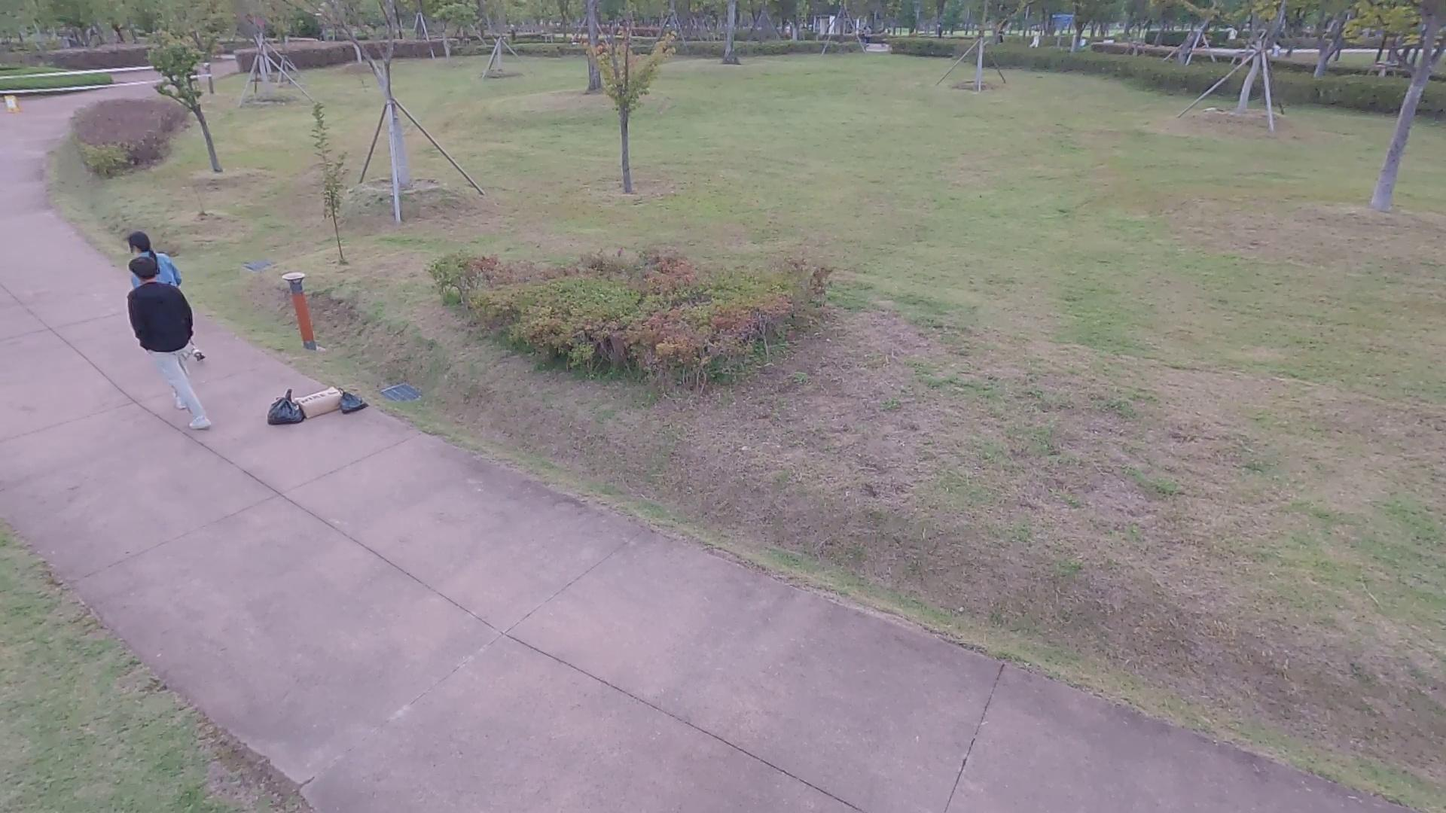person: (125, 255, 220, 435), (118, 226, 207, 377)
trash: (289, 386, 347, 420), (266, 389, 305, 426), (341, 389, 369, 415)
